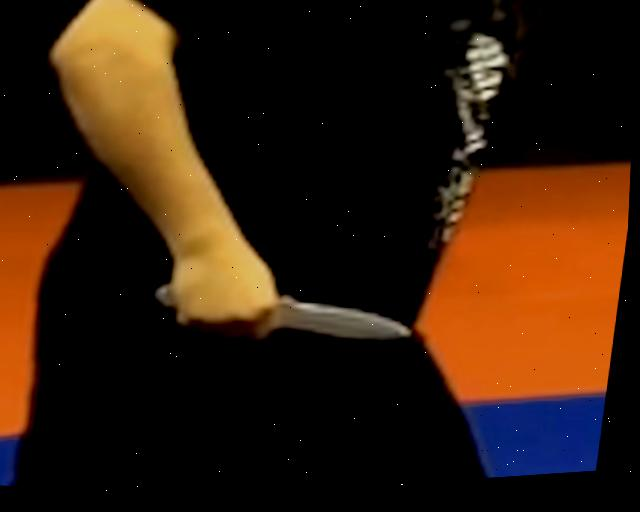pocket-knife: (124, 247, 438, 401)
